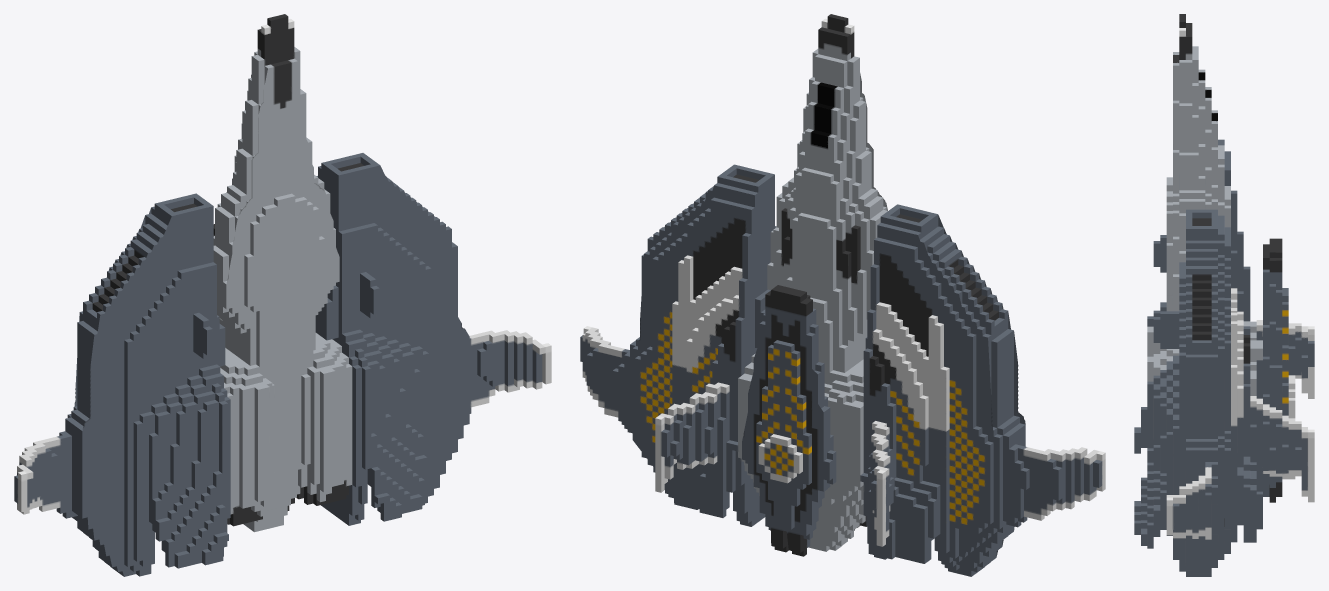
File: Spaceships_6.fbx
The picture shows the model from 3 angles, left to right: view 1: azimuth 30°, elevation 25°; view 2: azimuth 150°, elevation 25°; view 3: azimuth 270°, elevation 25°; orthographic projection. The views are drawn at different scales.
Visible parts, largest first — view 1: Spaceships_6; view 2: Spaceships_6; view 3: Spaceships_6.
Boxes of the visible parts, bbox=[...] form: Spaceships_6: bbox=[14, 14, 551, 576]; Spaceships_6: bbox=[580, 14, 1105, 576]; Spaceships_6: bbox=[1134, 14, 1314, 576].
Size of the model in its own units: 890 by 840 by 280.
